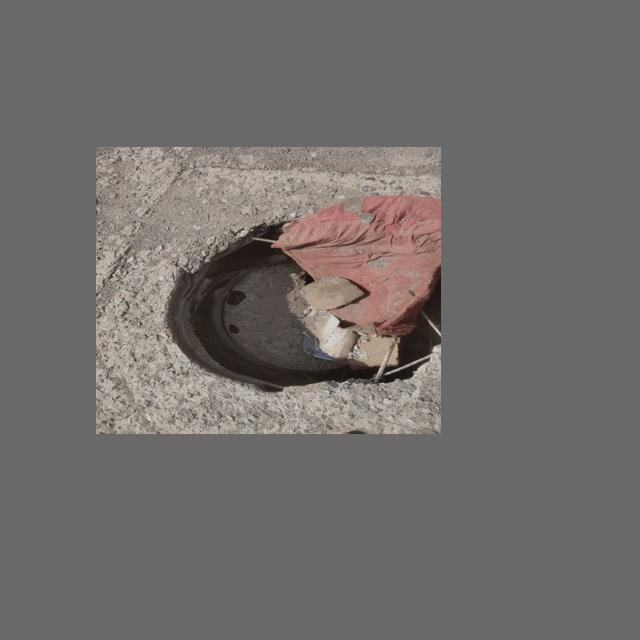broke: (129, 202, 433, 415)
